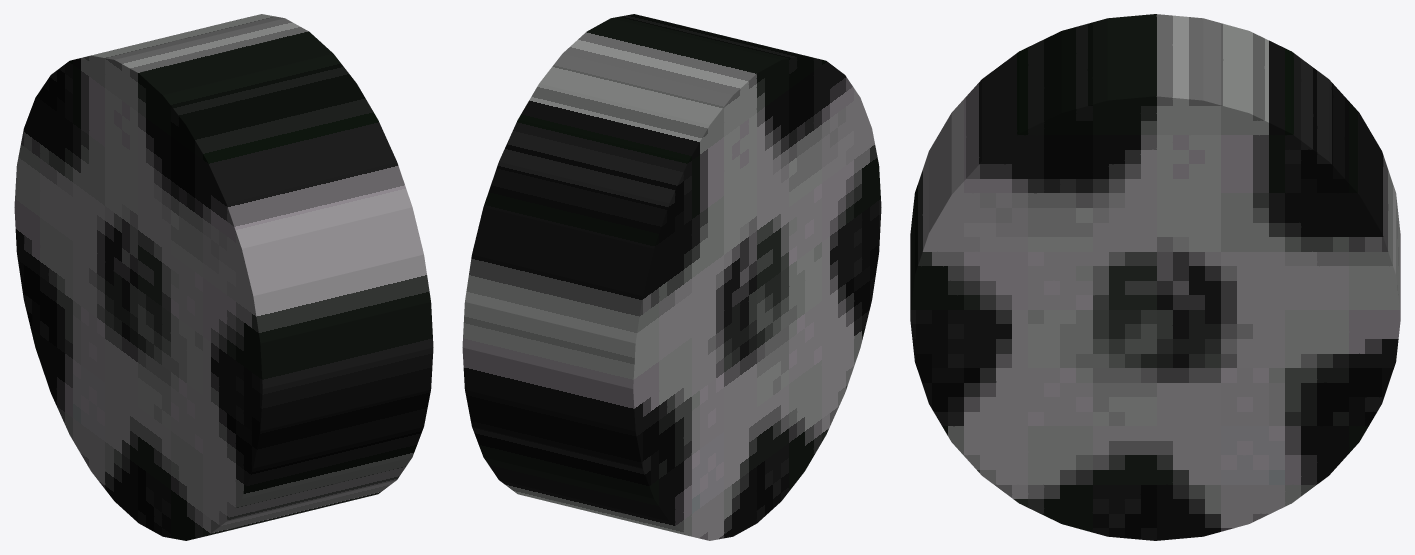
File: rotor.glb
3 renders of one model, left to right at view 1: azimuth 30°, elevation 25°; view 2: azimuth 150°, elevation 25°; view 3: azimuth 270°, elevation 25°, orthographic.
Parts seen in each view (by area): view 1: Cylinder; view 2: Cylinder; view 3: Cylinder.
Part boxes in pixels (x1=…): Cylinder: x1=14, y1=14, x2=433, y2=540; Cylinder: x1=462, y1=14, x2=881, y2=540; Cylinder: x1=910, y1=14, x2=1400, y2=540.
Size of the model in its own units: 0.1535 by 0.3866 by 0.3866.
1 material, 1 textured.
